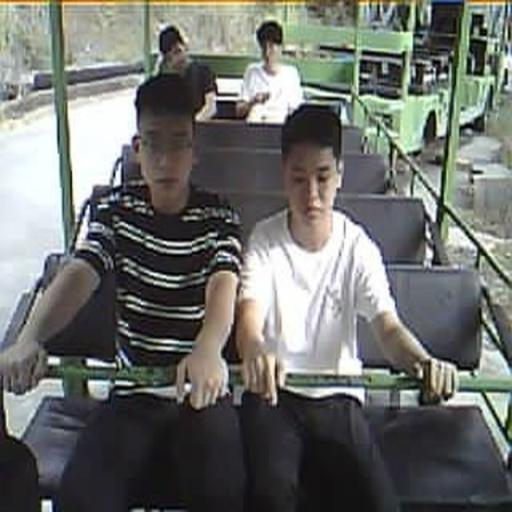persona: (1, 62, 247, 510), (236, 101, 460, 511), (235, 19, 304, 124), (152, 22, 218, 120)
